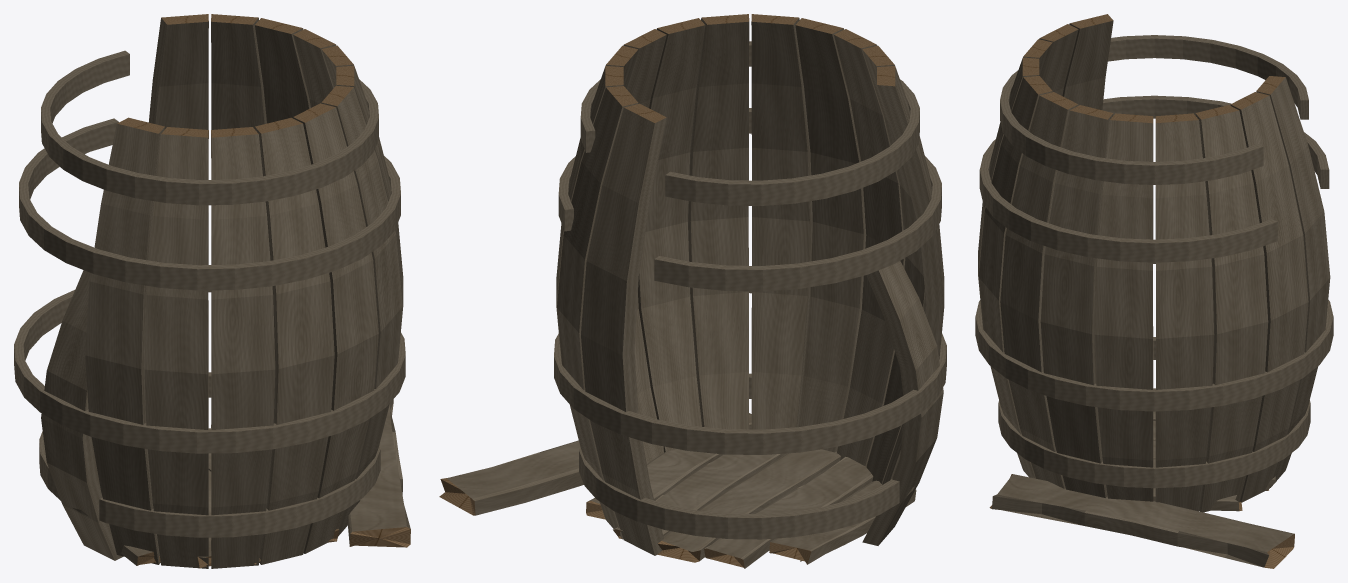
File: barrel_broken.fbx
3 renders of one model, left to right at view 1: azimuth 30°, elevation 25°; view 2: azimuth 150°, elevation 25°; view 3: azimuth 270°, elevation 25°, orthographic. The views are drawn at different scales.
Visible parts, largest first — view 1: barrel_broken; view 2: barrel_broken; view 3: barrel_broken.
Part boxes in pixels (x1,y1,x2,y2): barrel_broken: (14, 14, 410, 568); barrel_broken: (439, 14, 946, 568); barrel_broken: (975, 14, 1333, 568).
Size of what is drawn, in the model's own units: 0.9186 by 0.9244 by 0.7507.
1 material, 1 textured.
